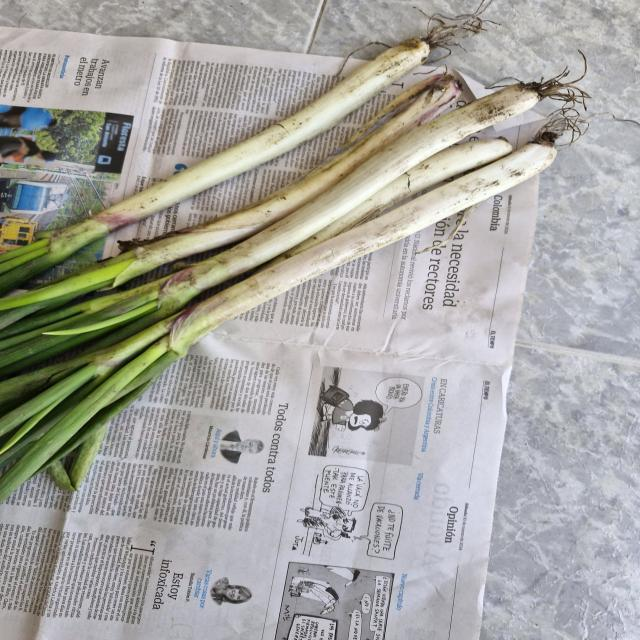green_onion: (0, 128, 567, 519), (0, 27, 448, 306)
